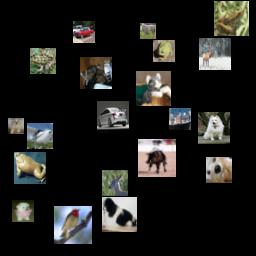airplane: (27, 123, 53, 149)
automobile: (97, 101, 129, 133), (73, 21, 95, 43)
bird: (54, 206, 92, 244)
cat: (136, 71, 171, 106), (80, 57, 112, 89)
deer: (199, 38, 231, 70), (102, 170, 128, 196)
dog: (102, 197, 137, 232), (198, 112, 230, 144), (206, 157, 232, 183), (12, 200, 34, 222), (8, 118, 24, 134)
frog: (214, 1, 249, 36), (14, 152, 46, 184), (30, 48, 56, 74), (153, 40, 175, 62)
ship: (169, 108, 191, 130)
